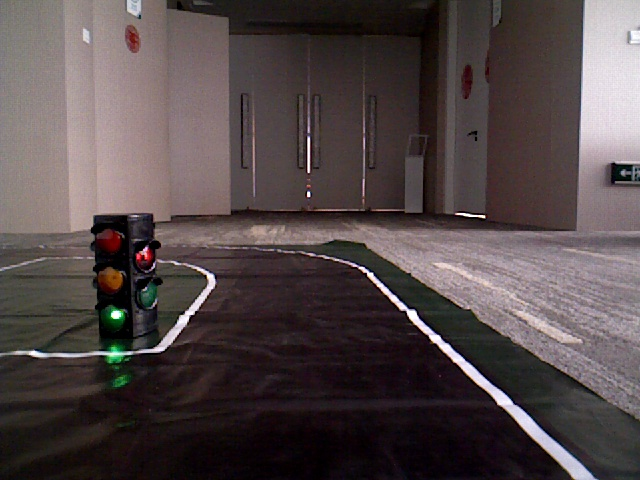green: (93, 217, 132, 343)
